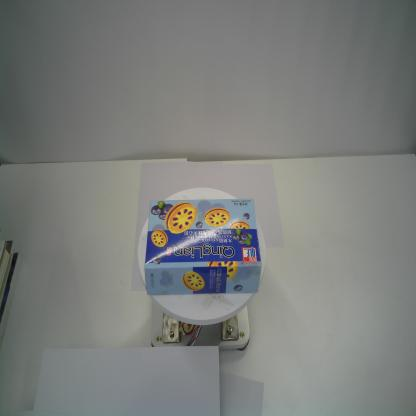Dessert: (143, 197, 263, 297)
